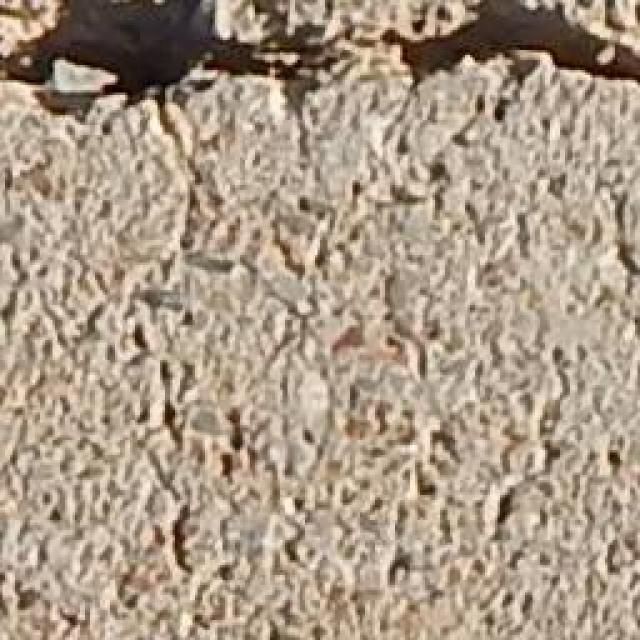concrete-crack: (0, 0, 640, 130)
